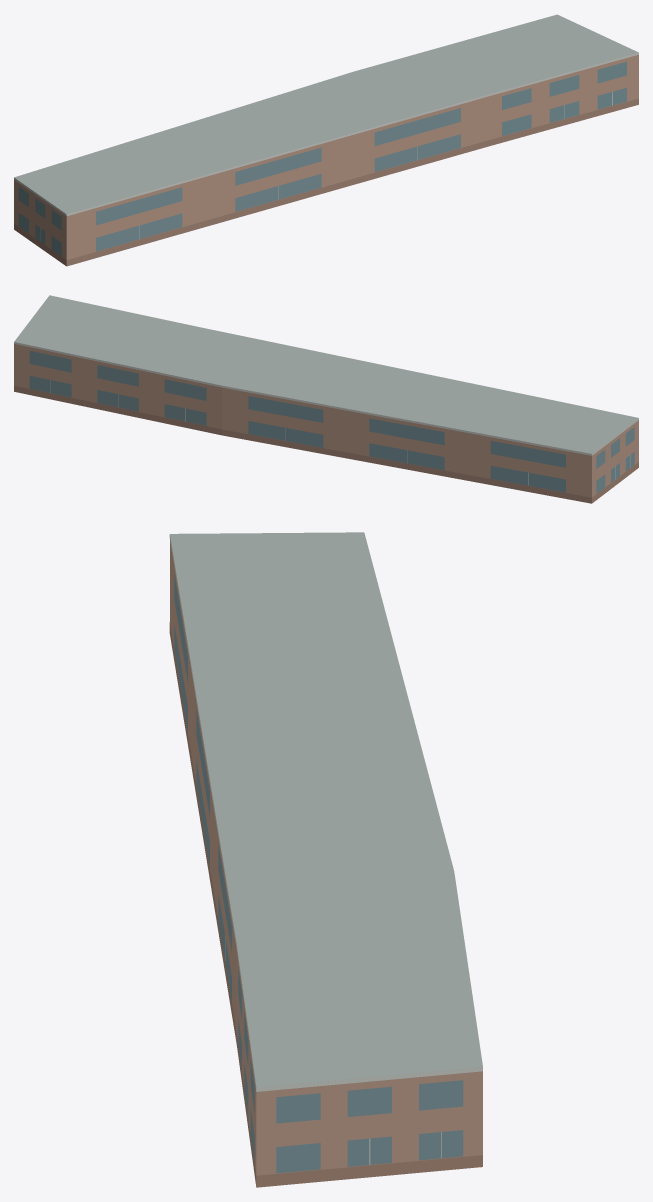
Rendered from survey-upis-32474722.glb.
3 renders of one model, top to bottom at view 1: azimuth 30°, elevation 25°; view 2: azimuth 150°, elevation 25°; view 3: azimuth 270°, elevation 25°, orthographic. The views are drawn at different scales.
Visible parts, largest first — view 1: survey-upis-32474722.tmp; view 2: survey-upis-32474722.tmp; view 3: survey-upis-32474722.tmp.
Boxes of the visible parts, bbox=[...] form: survey-upis-32474722.tmp: bbox=[14, 14, 638, 266]; survey-upis-32474722.tmp: bbox=[14, 295, 638, 503]; survey-upis-32474722.tmp: bbox=[169, 532, 482, 1187].
Bounding box in the file's own units: 72.98 × 6.1 × 17.4.
